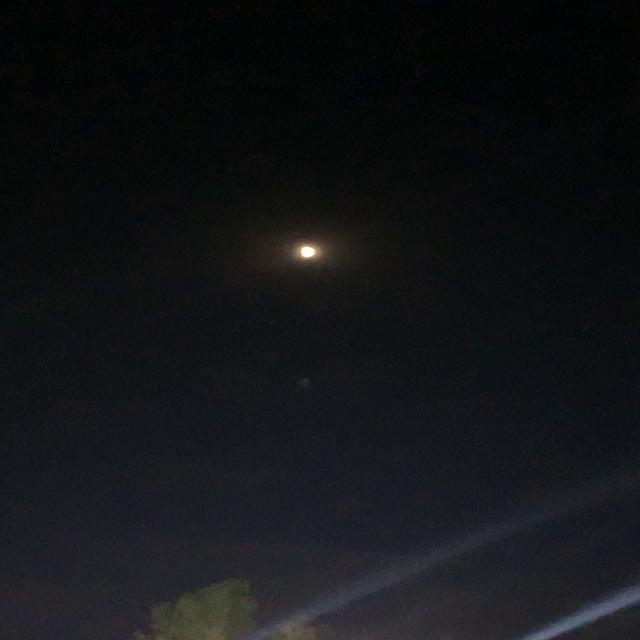moon: (284, 236, 336, 268)
